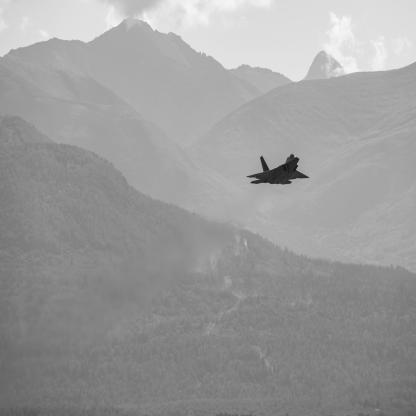F22: (247, 154, 311, 186)
